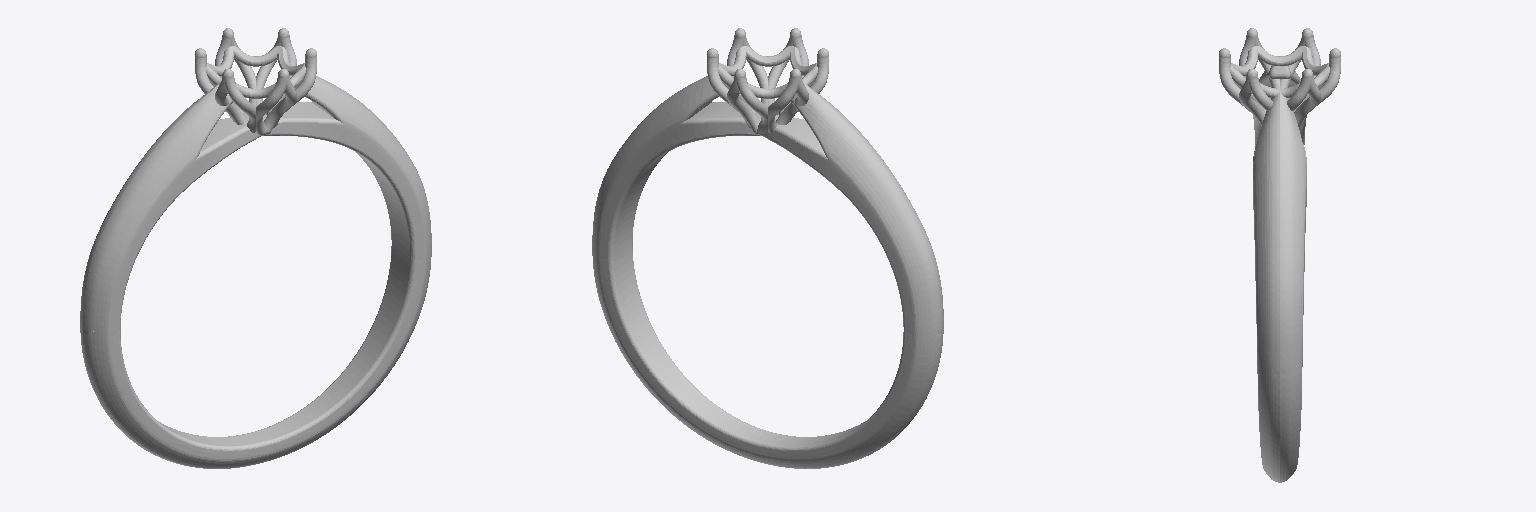
The model's file is ring3.obj.
The picture shows the model from 3 angles: view 1: azimuth 30°, elevation 25°; view 2: azimuth 150°, elevation 25°; view 3: azimuth 270°, elevation 25°; orthographic projection.
Visible parts, largest first — view 1: Ring01; view 2: Ring01; view 3: Ring01.
Boxes of the visible parts, x1=… form: Ring01: x1=80, y1=28, x2=431, y2=468; Ring01: x1=592, y1=28, x2=943, y2=468; Ring01: x1=1219, y1=28, x2=1340, y2=482.
Size of the model in its own units: 19.7 by 22.51 by 6.05.